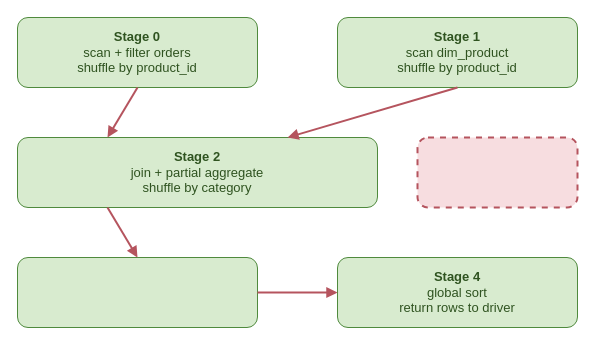
This 596x345 diagram has some shape labels left out. Here are the shapes that lost their labels. From the top down, the centre of each, then its label:
At (x=497, y=172): "one task far slower: skew".
At (x=137, y=292): "Stage 3 final aggregate shuffle by on_time_rate".
